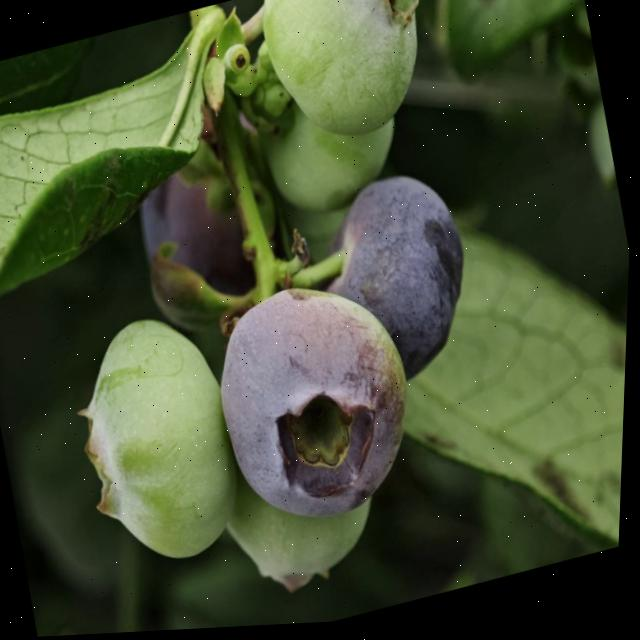Semi-RipeBlueBerry: (204, 265, 437, 543)
UnripeBlueBerry: (67, 306, 257, 582), (254, 0, 444, 152)
